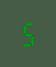five: (19, 19, 34, 47)
